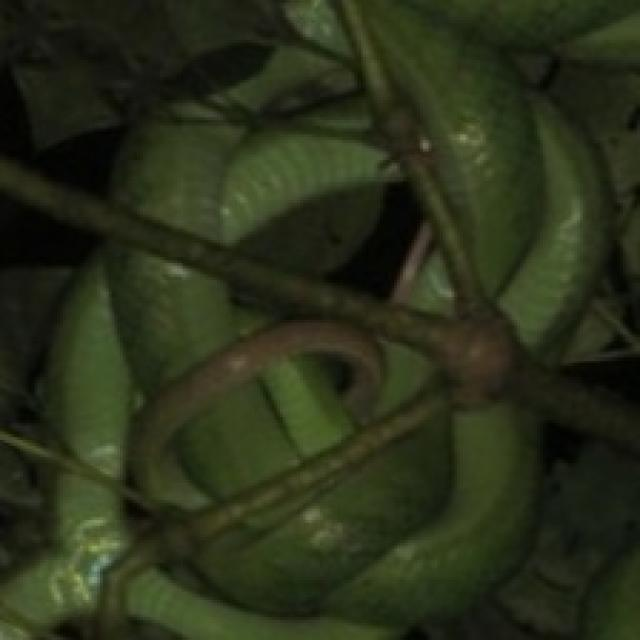red-tailed green ratsnake: (20, 2, 630, 639)
